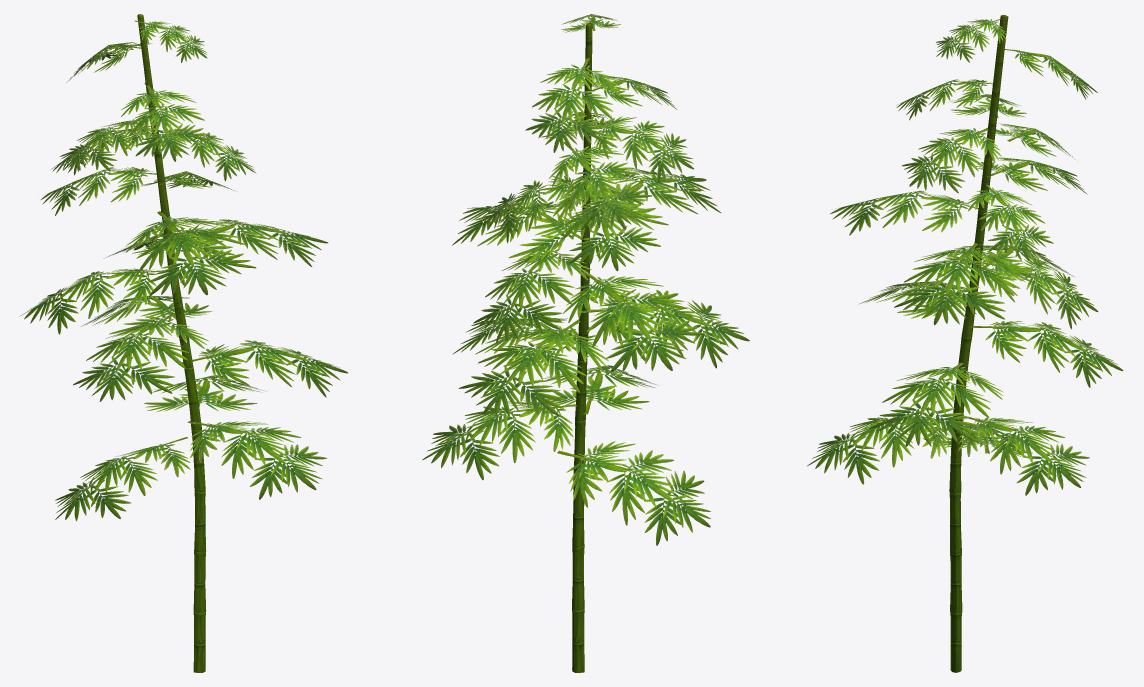
The model's file is BambooC.fbx.
3 views of the same model, side by side, from view 1: azimuth 30°, elevation 25°; view 2: azimuth 150°, elevation 25°; view 3: azimuth 270°, elevation 25° (orthographic). The views are drawn at different scales.
Visible parts, largest first — view 1: pPlaneShape17, pPlane3; view 2: pPlaneShape17, pPlane3; view 3: pPlaneShape17, pPlane3.
Part boxes in pixels (<box>): pPlaneShape17: <box>19,20,347,521</box>; pPlane3: <box>137,14,206,672</box>; pPlaneShape17: <box>422,14,749,545</box>; pPlane3: <box>572,23,592,672</box>; pPlaneShape17: <box>807,19,1123,495</box>; pPlane3: <box>949,15,1008,672</box>.
Bounding box in the file's own units: 2.15 × 4.25 × 2.09.
Materials: 2 (2 with a texture image).
